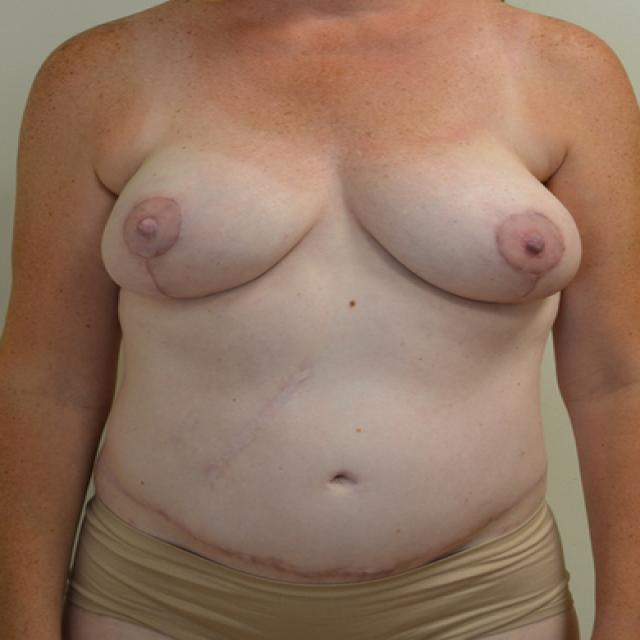Seno herido: (342, 125, 589, 316), (94, 121, 335, 313)
